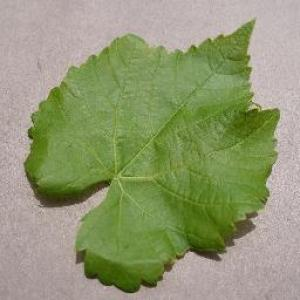Folha: (22, 16, 280, 293)
